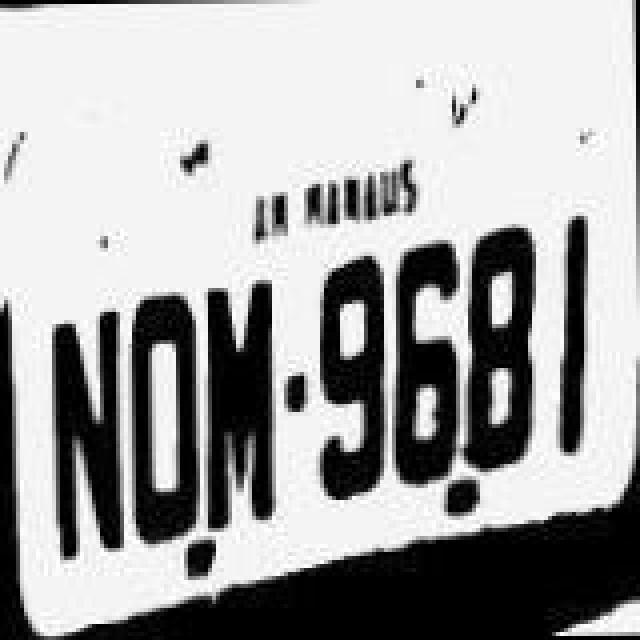1: (530, 212, 606, 500)
6: (384, 234, 464, 514)
8: (460, 210, 548, 502)
9: (312, 242, 396, 526)
M: (200, 258, 284, 554)
N: (40, 300, 124, 572)
O: (120, 288, 204, 564)
